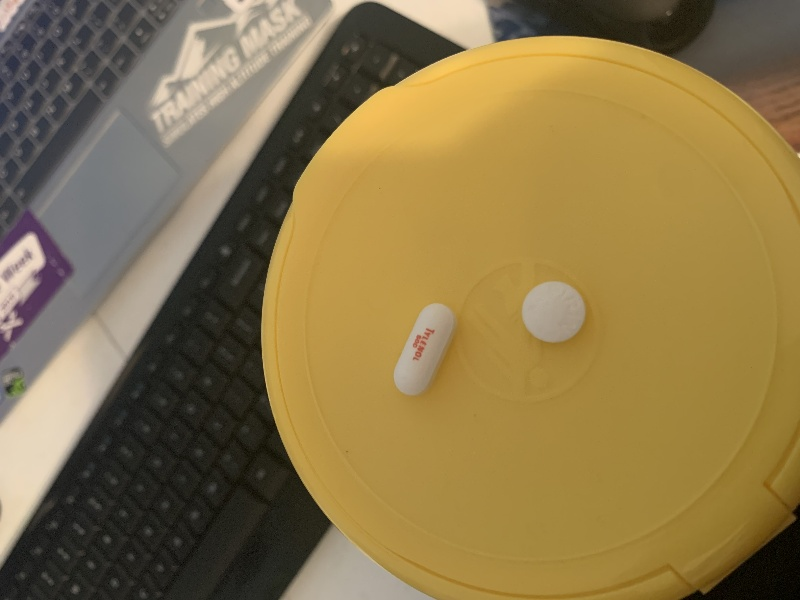Aspirin: (514, 279, 591, 350)
Tylenol: (388, 302, 461, 398)
